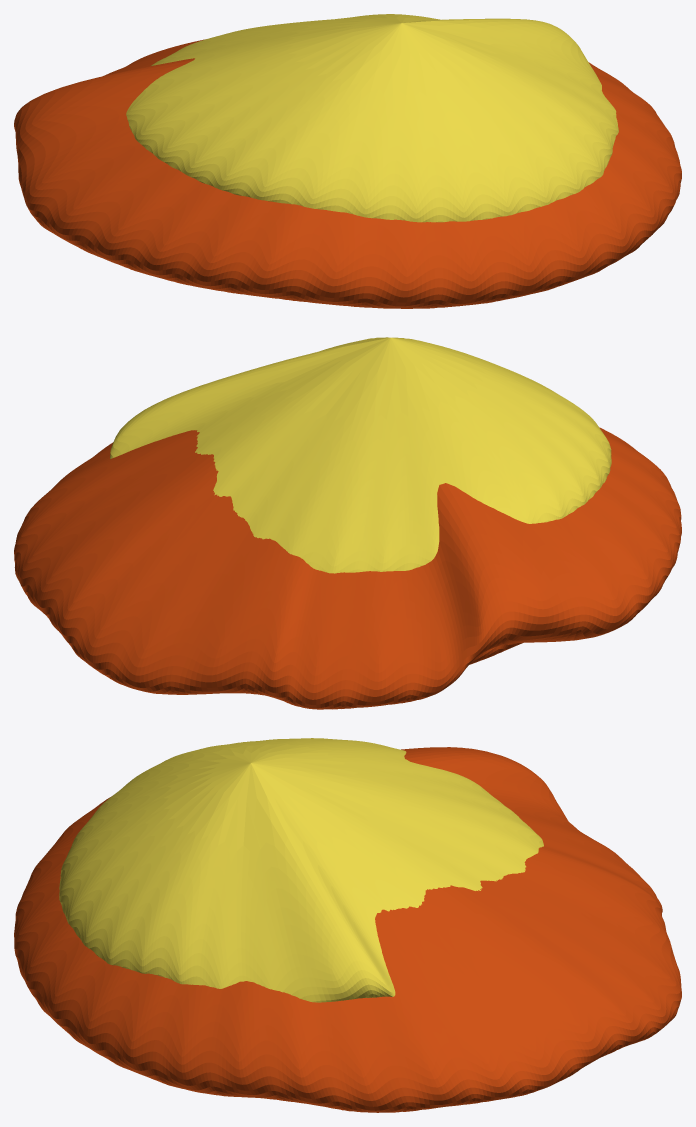
The model's file is _Yellow+orange.fbx.
3 views of the same model, one above another, from view 1: azimuth 30°, elevation 25°; view 2: azimuth 150°, elevation 25°; view 3: azimuth 270°, elevation 25° (orthographic). The views are drawn at different scales.
Visible parts, largest first — view 1: Cone.002; view 2: Cone.002; view 3: Cone.002.
Part boxes in pixels (box(x1,y1,x2,y2)): Cone.002: box(14, 14, 681, 308); Cone.002: box(14, 337, 681, 709); Cone.002: box(14, 738, 681, 1112).
Bounding box in the file's own units: 52.62 × 20.28 × 50.38.
